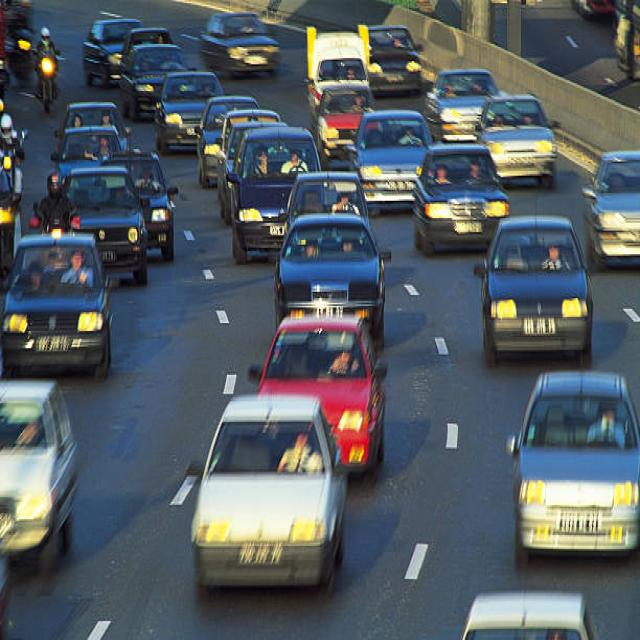moderate_traffic: (14, 39, 621, 594)
